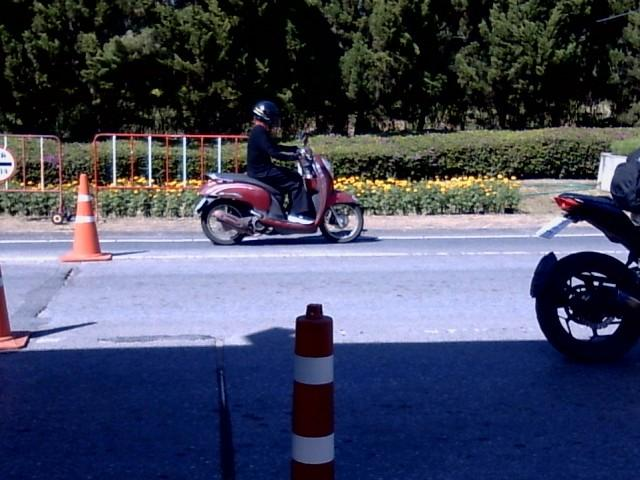helmet: (249, 89, 282, 128)
motor: (194, 134, 363, 244)
person: (248, 101, 312, 222)
